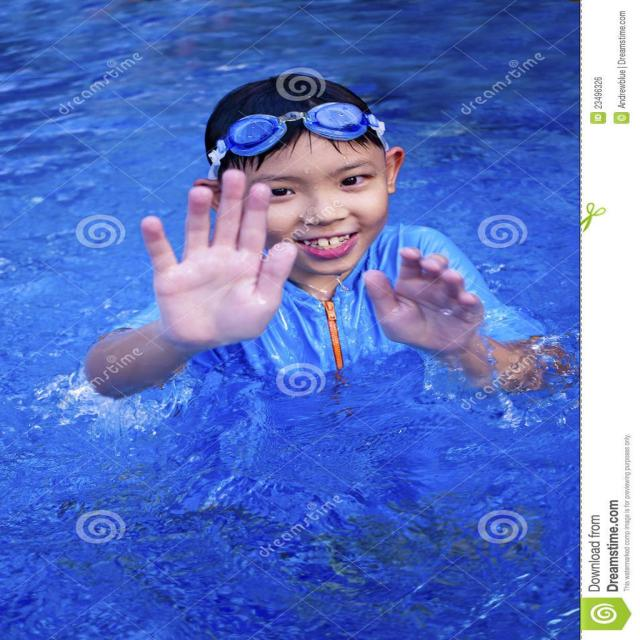Face: (220, 122, 412, 269)
